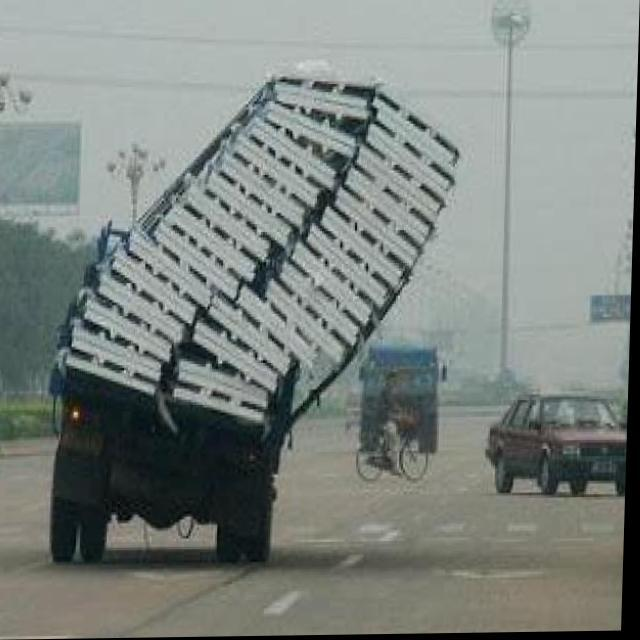uncovered: (45, 44, 400, 582)
